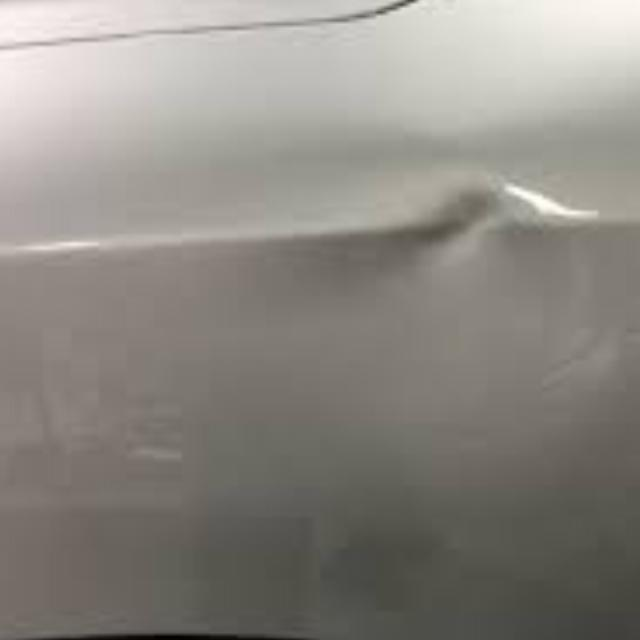dents: (362, 137, 578, 309)
